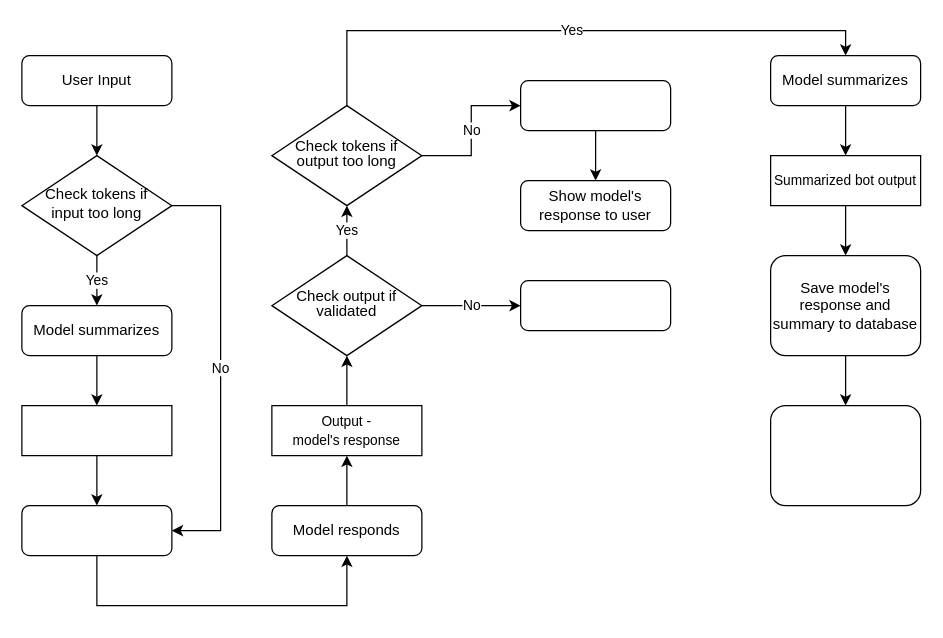
Image size: 943x638. Some labels were removed from this diagram. Here are the shapes that lost their labels. From the top down, the box of each, then its label:
(519, 79, 671, 131): Save model's response to database
(519, 279, 671, 331): Show to user a statment
(21, 404, 172, 456): Summarized user input
(769, 404, 921, 506): Show model's response and summary to user
(21, 504, 172, 556): Combine with system prompt and context (if there is)
